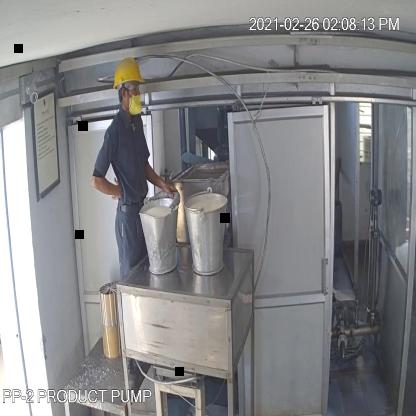helmet: (106, 55, 146, 89)
